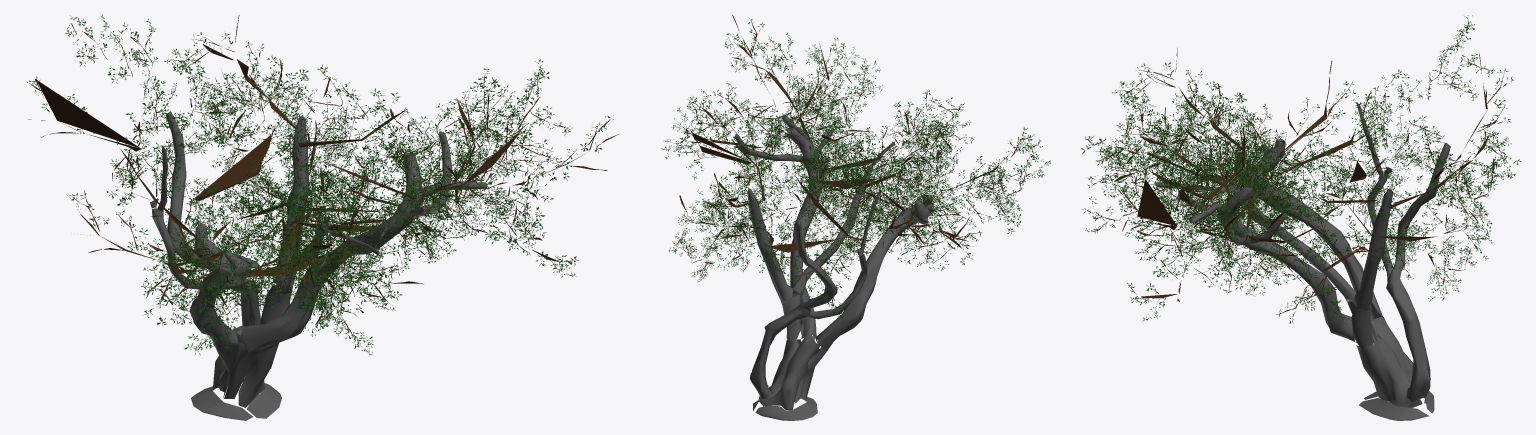
File: island_tree_realistic.obj
The picture shows the model from 3 angles, left to right: view 1: azimuth 30°, elevation 25°; view 2: azimuth 150°, elevation 25°; view 3: azimuth 270°, elevation 25°; orthographic projection. The views are drawn at different scales.
Parts seen in each view (by area): view 1: part_2__island_tree_02_leaves, part_3__island_tree_02_branches, part_1__island_tree_02; view 2: part_2__island_tree_02_leaves, part_1__island_tree_02, part_3__island_tree_02_branches; view 3: part_2__island_tree_02_leaves, part_1__island_tree_02, part_3__island_tree_02_branches.
Boxes of the visible parts, x1,y1,x2,y2 form: part_2__island_tree_02_leaves: [26, 14, 613, 356]; part_3__island_tree_02_branches: [28, 15, 618, 354]; part_1__island_tree_02: [150, 111, 487, 420]; part_2__island_tree_02_leaves: [661, 18, 1050, 320]; part_1__island_tree_02: [734, 114, 935, 420]; part_3__island_tree_02_branches: [663, 15, 1046, 317]; part_2__island_tree_02_leaves: [1081, 15, 1521, 324]; part_1__island_tree_02: [1154, 103, 1450, 420]; part_3__island_tree_02_branches: [1085, 21, 1508, 320].
Bounding box in the file's own units: 4.13 × 3.39 × 4.05.
